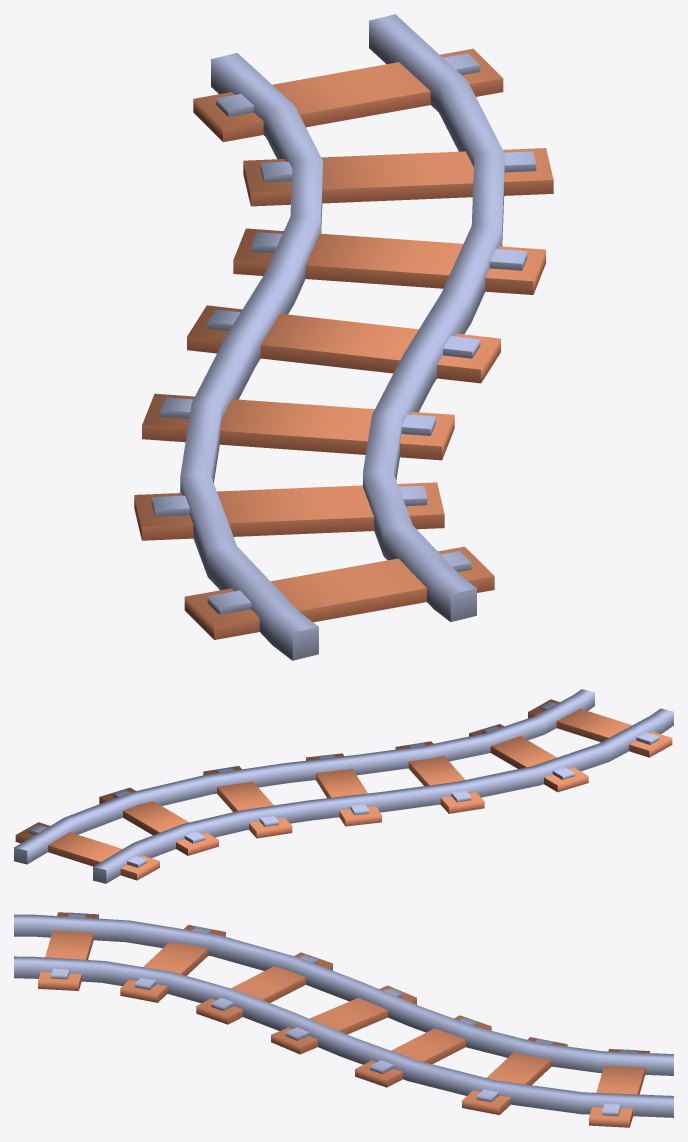
File: railroad-curve.glb
3 renders of one model, top to bottom at view 1: azimuth 30°, elevation 25°; view 2: azimuth 150°, elevation 25°; view 3: azimuth 270°, elevation 25°, orthographic. The views are drawn at different scales.
Visible parts, largest first — view 1: railroad-curve; view 2: railroad-curve; view 3: railroad-curve.
Boxes of the visible parts, bbox=[...] form: railroad-curve: bbox=[134, 14, 553, 660]; railroad-curve: bbox=[14, 689, 673, 883]; railroad-curve: bbox=[14, 912, 673, 1127].
Bounding box in the file's own units: 2.98 × 0.1001 × 4.
Materials: 1 (1 with a texture image).
